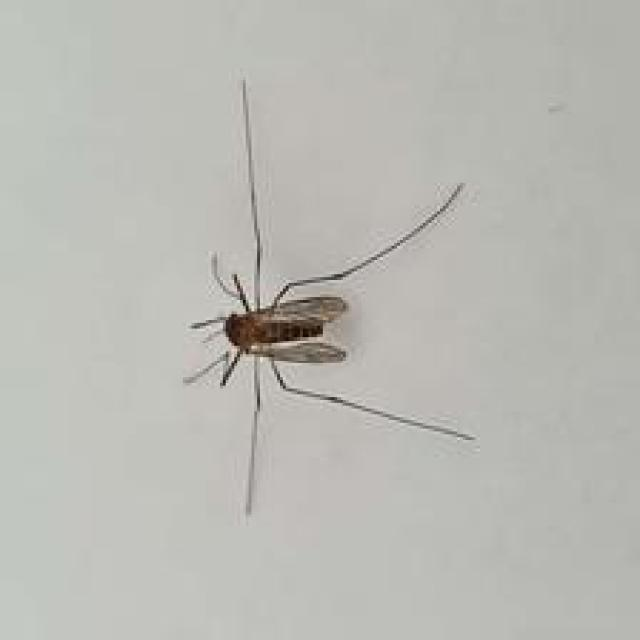Culex: (182, 76, 478, 516)
